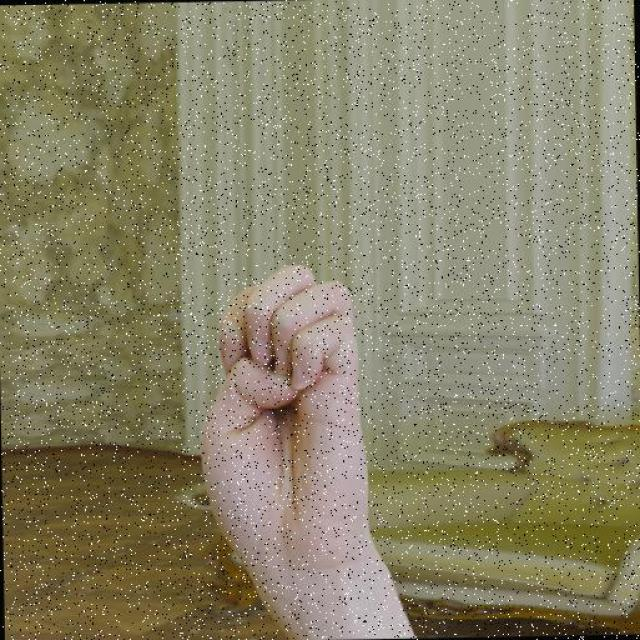E: (192, 256, 376, 595)
